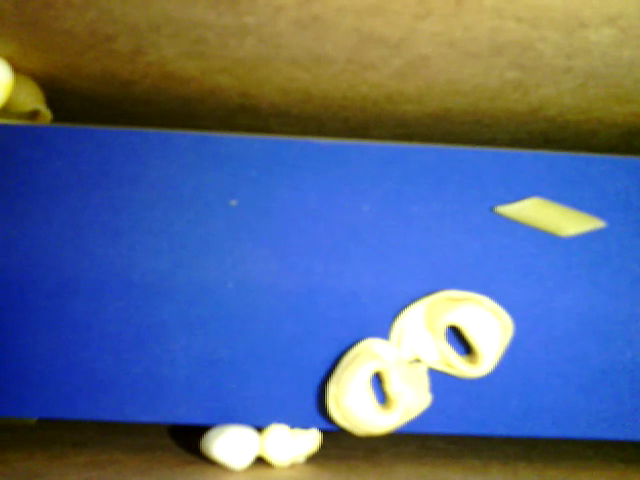penne: (494, 196, 606, 241)
shell: (1, 70, 56, 128)
tortellini: (320, 335, 435, 439), (390, 289, 518, 381)
